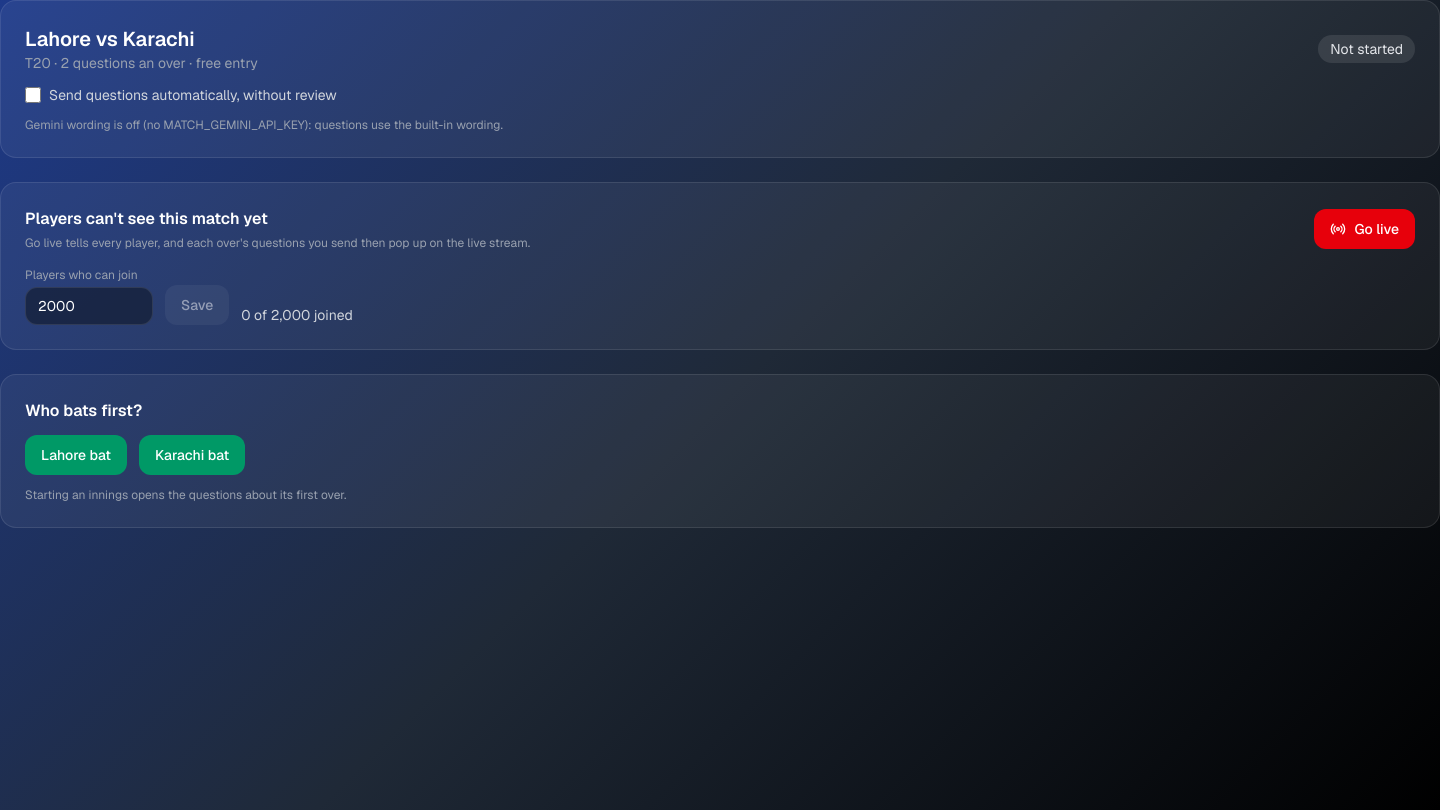
MatchConsole › starts the first innings with the team that bats
The image size is (1440, 810).
Expected: the heading "Who bats first?" is shown, [25, 400, 142, 421]
Expected: the button "Undo last ball" is not shown
Click the button "Karachi bat" at (192, 455), box [139, 435, 245, 475]
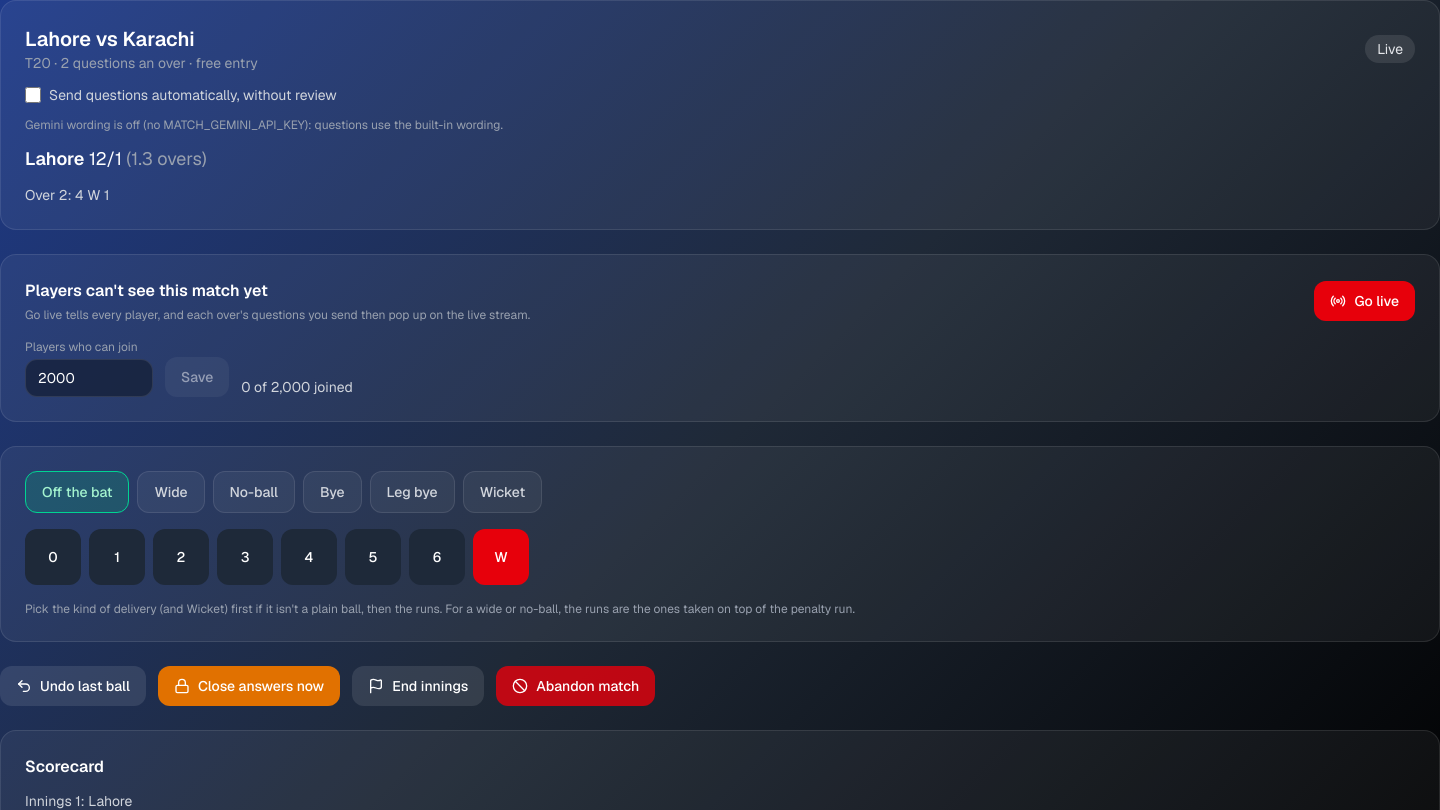
Result: the text named "This over" reads "Over 2: 4 W 1" at [25, 186, 109, 204]
